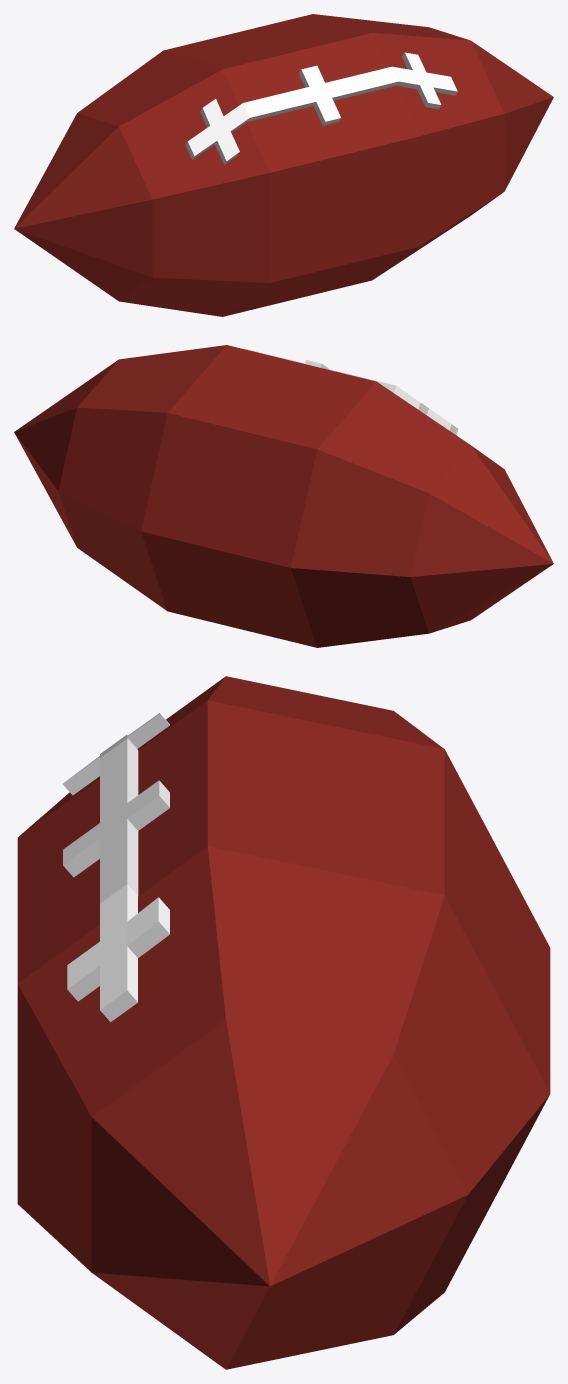
Rendered from Rugby Ball.glb.
3 renders of one model, top to bottom at view 1: azimuth 30°, elevation 25°; view 2: azimuth 150°, elevation 25°; view 3: azimuth 270°, elevation 25°, orthographic. The views are drawn at different scales.
Visible parts, largest first — view 1: Node; view 2: Node; view 3: Node.
Part boxes in pixels (<box>): Node: <box>14,14,553,316</box>; Node: <box>14,345,553,647</box>; Node: <box>17,676,550,1369</box>.
Size of the model in its own units: 0.3694 by 0.1618 by 0.1578.
Materials: 1 (1 with a texture image).
